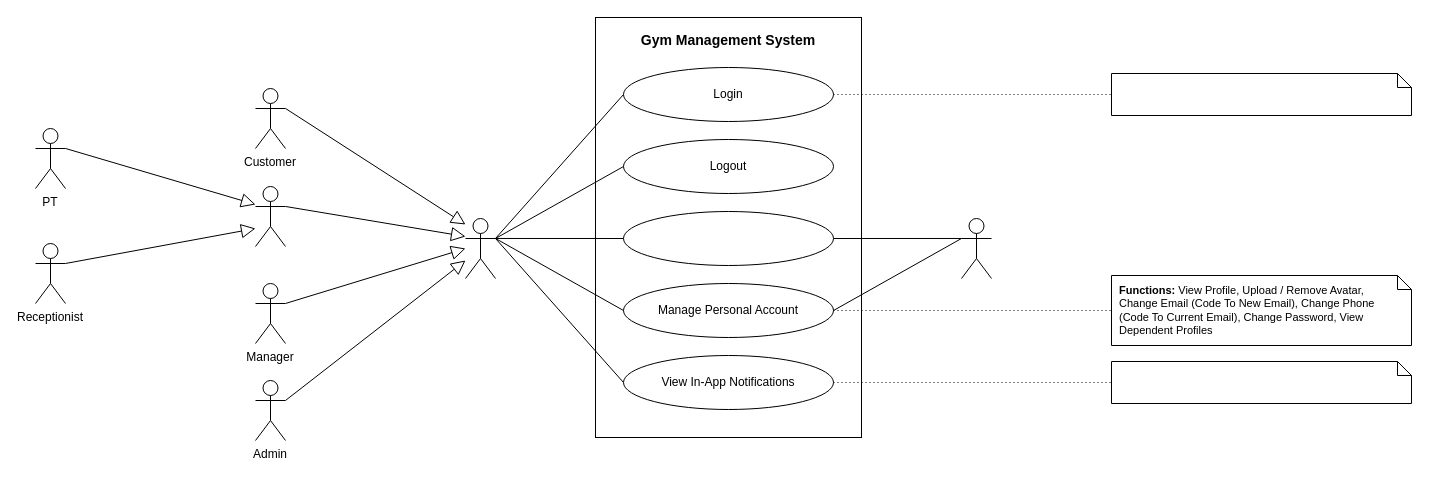
The diagram is 1429 pixels wide and 479 high, and some of its shapes have lost their labels. Each missing label, with the centre of its shape:
"Functions: Sign In With Email Or Phone + Password, Select Role, Switch Role" goes at (1261,94).
"Functions: View Latest Notifications, Mark One As Read, Mark All As Read" goes at (1261,382).
"Recover Password" goes at (728,238).
"Staff" goes at (270,216).
"System User" goes at (480,248).
"«system» Email / OTP Service" goes at (976,248).
